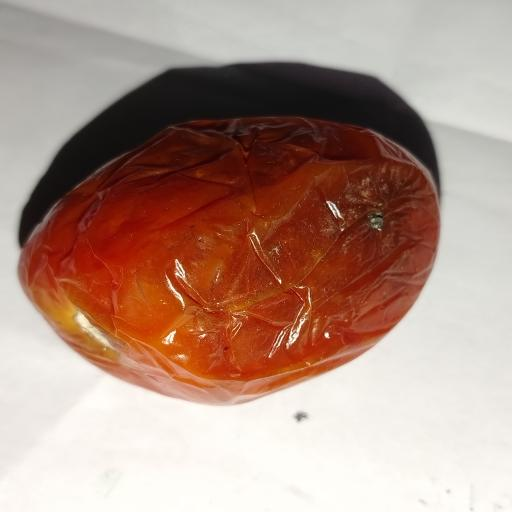spoiled: (20, 117, 439, 404)
